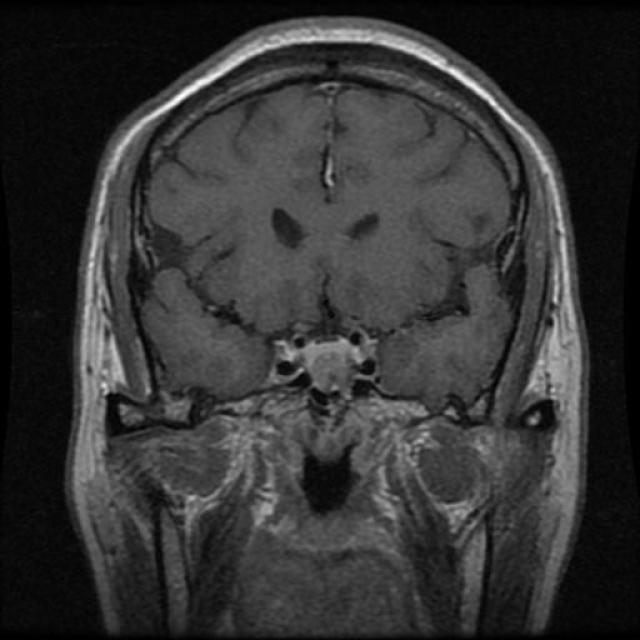pituitary: (268, 330, 383, 414)
